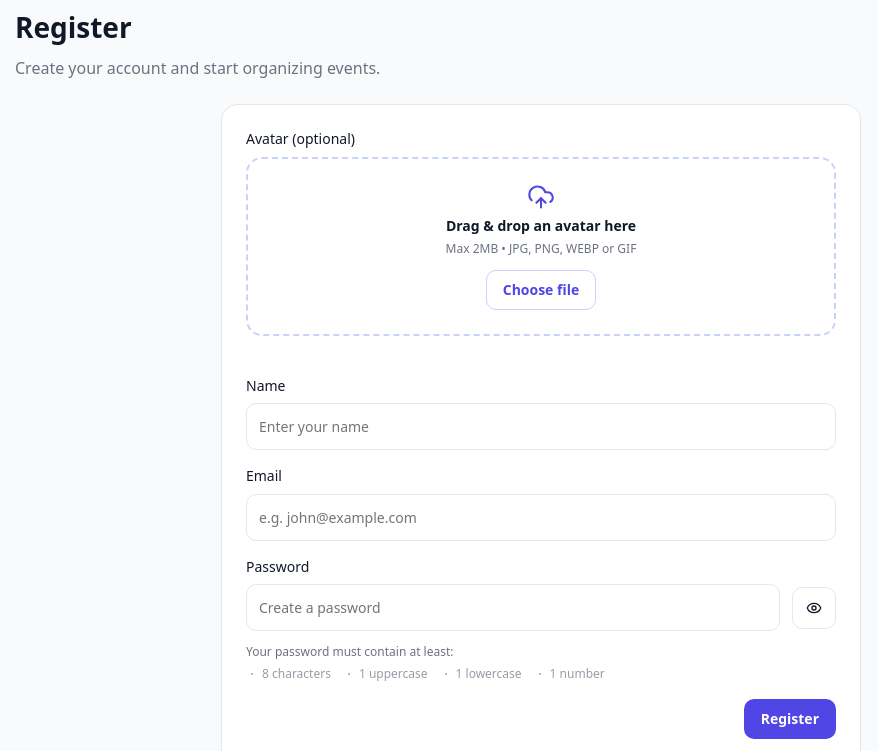
RegisterPage › clears field error when user edits input
Click the button "Register": (790, 719) [744, 699, 836, 739]
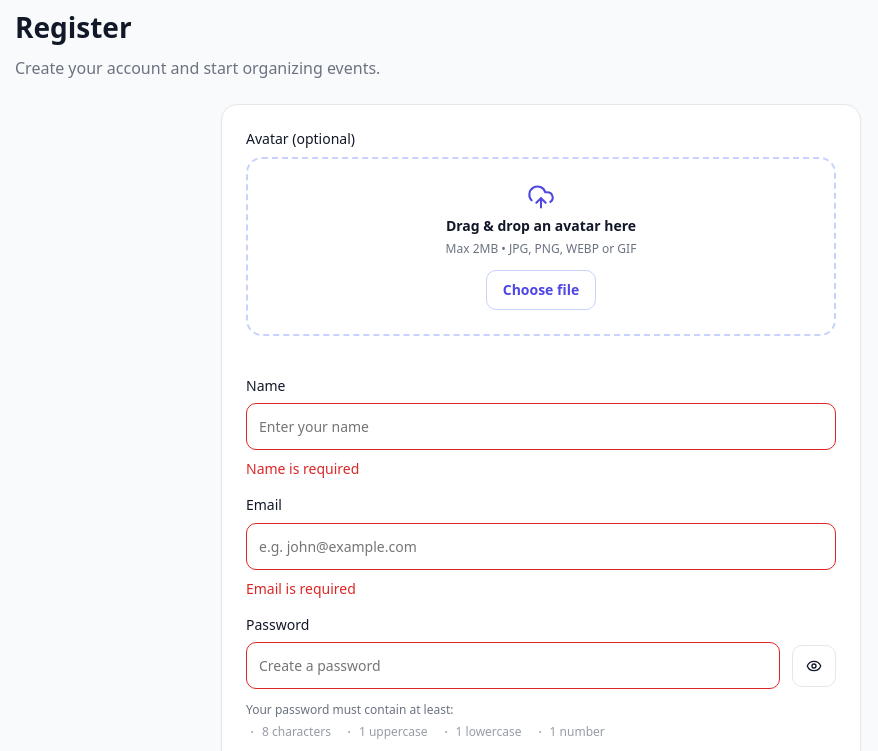
Expected: the text "Name is required" is shown, [246, 459, 359, 478]
In the field labelled "Name": (541, 427) [246, 403, 836, 450], type "John"
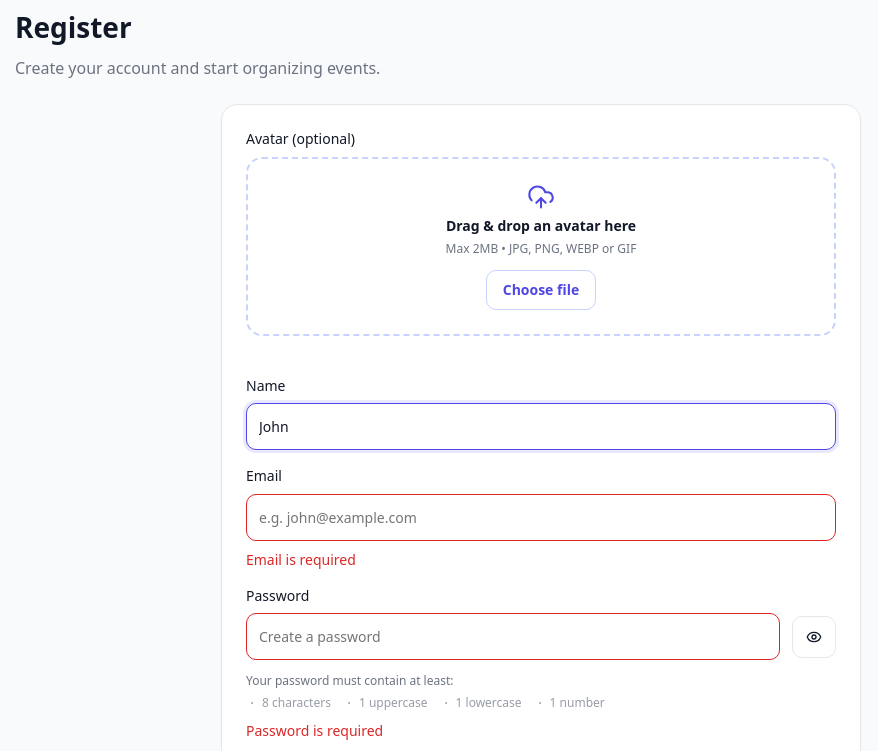
Expected: the text "Name is required" is gone
